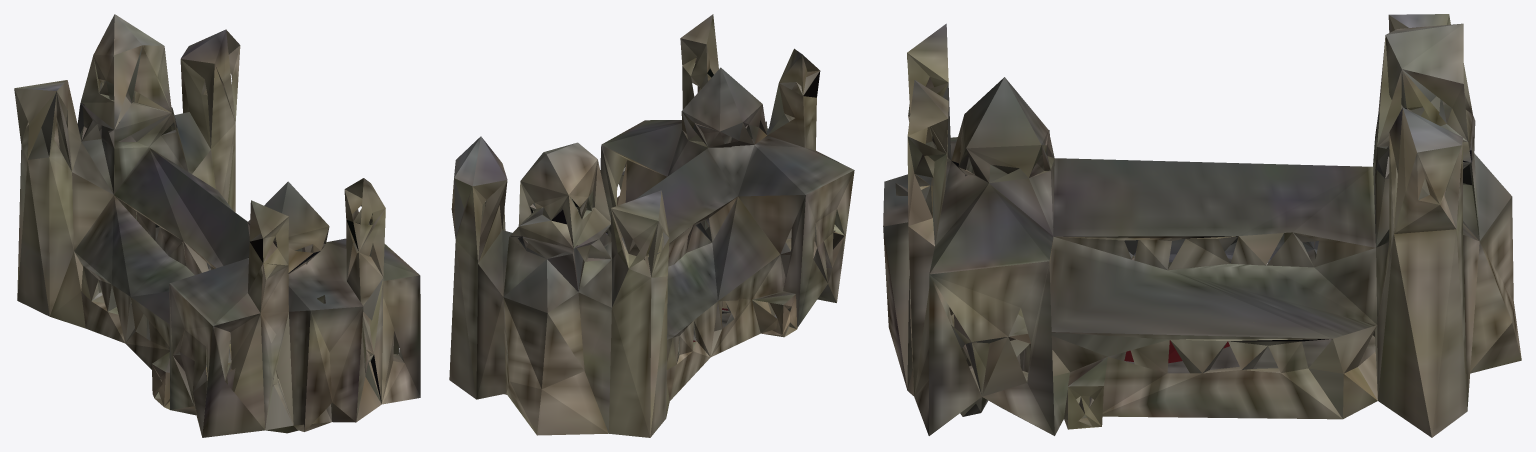
The model's file is cathedral_romanesque_lod1.glb.
3 renders of one model, left to right at view 1: azimuth 30°, elevation 25°; view 2: azimuth 150°, elevation 25°; view 3: azimuth 270°, elevation 25°, orthographic. The views are drawn at different scales.
Visible parts, largest first — view 1: cathedral_romanesque_lod1; view 2: cathedral_romanesque_lod1; view 3: cathedral_romanesque_lod1.
Boxes of the visible parts, x1,y1,x2,y2 form: cathedral_romanesque_lod1: (14, 14, 420, 437); cathedral_romanesque_lod1: (449, 14, 854, 437); cathedral_romanesque_lod1: (883, 14, 1521, 437).
Bounding box in the file's own units: 9.19 × 10.73 × 17.88.
1 material, 1 textured.
